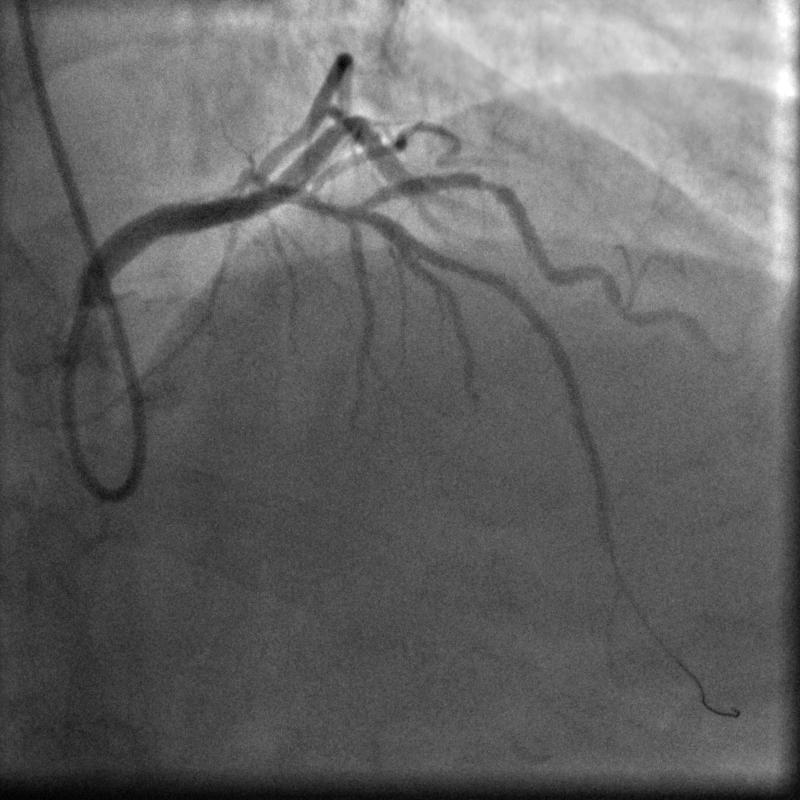Stenosis: (467, 164, 507, 206)
